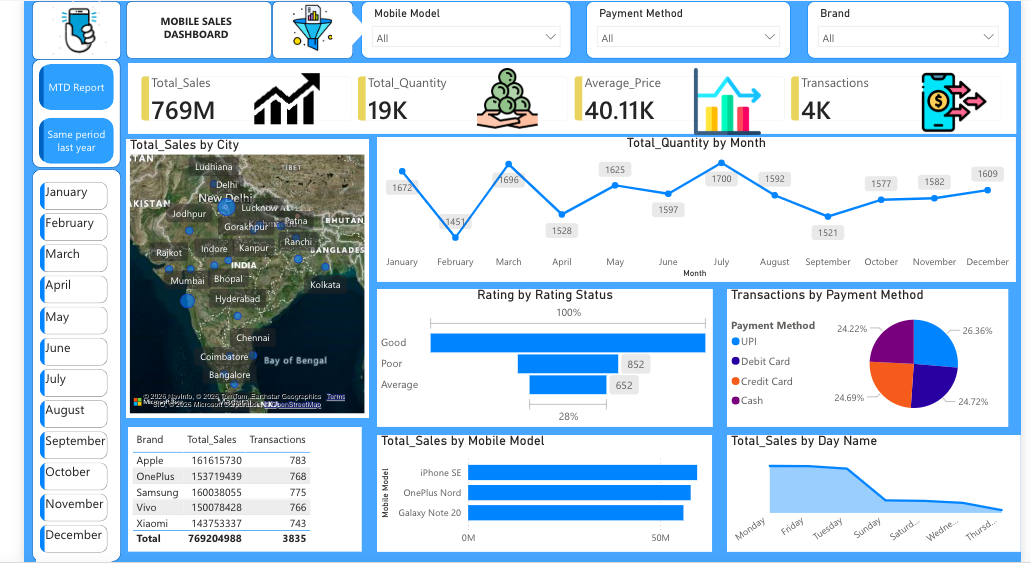

This screenshot's page, from the dashboard's own definition file:
{"tool":"powerbi","page":{"name":"Dashboard","canvas":[1280,720],"ordinal":0},"visuals":[{"type":"shape","box":[10,0,114.3,75.7],"z":0},{"type":"image","box":[10,0,121.4,74.3],"z":1000},{"type":"shape","box":[10.1,74.9,113.8,139.7],"z":2000},{"type":"shape","box":[10,215.7,114.3,504.3],"z":3000},{"type":"advancedSlicerVisual","fields":{"Values":["Custom_Calendar.Date.Variation.Date Hierarchy.Month"]},"box":[15.7,227.1,97.1,492.9],"z":4000},{"type":"cardVisual","fields":{"Data":["Mobile_sales_data.Total_Sales","Mobile_sales_data.Total_Quantity","Mobile_sales_data.Average_Price","Mobile_sales_data.Transactions"]},"box":[132.9,80,1140,91.4],"z":5000},{"type":"slicer","fields":{"Values":["Mobile_sales_data.Mobile Model"]},"box":[432.9,0,270,74.3],"z":6000},{"type":"slicer","fields":{"Values":["Mobile_sales_data.Payment Method"]},"box":[721.4,0,262.9,74.3],"z":7000},{"type":"slicer","fields":{"Values":["Mobile_sales_data.Brand"]},"box":[1004.3,0,260,74.3],"z":8000},{"type":"shape","box":[318.6,0,104.3,74.3],"z":9000},{"type":"image","box":[322.9,2.9,95.7,64.3],"z":10000},{"type":"shape","box":[395.7,11.4,45.7,48.6],"z":11000},{"type":"image","box":[242.9,82.9,190,84.3],"z":12000},{"type":"image","box":[520,82.9,201.4,82.9],"z":13000},{"type":"image","box":[760,85.7,285.7,85.7],"z":14000},{"type":"image","box":[1105.7,88.6,174.3,82.9],"z":15000},{"type":"shape","box":[131.4,0,187.1,74.3],"z":16000},{"type":"textbox","box":[144.3,11.4,154.3,48.6],"z":17000},{"type":"lineChart","fields":{"Category":["Custom_Calendar.Date.Variation.Date Hierarchy.Month"],"Y":["Mobile_sales_data.Total_Quantity"]},"box":[452.9,174.3,820,185.7],"z":18000},{"type":"funnel","title":"Rating by Rating Status","fields":{"Y":["CountNonNull(Mobile_sales_data.Customer Age)"],"Category":["Mobile_sales_data.Rating Status"]},"box":[452.9,370,431.4,177.1],"z":19000},{"type":"pieChart","fields":{"Y":["Mobile_sales_data.Transactions"],"Category":["Mobile_sales_data.Payment Method"]},"box":[902.9,370,361.4,177.1],"z":20000},{"type":"clusteredBarChart","fields":{"Y":["Mobile_sales_data.Total_Sales"],"Category":["Mobile_sales_data.Mobile Model"]},"box":[452.9,557.1,430,150],"z":21000},{"type":"areaChart","fields":{"Y":["Mobile_sales_data.Total_Sales"],"Category":["Custom_Calendar.Day Name"]},"box":[902.9,557.1,377.1,150],"z":22000},{"type":"tableEx","fields":{"Values":["Mobile_sales_data.Brand","Mobile_sales_data.Total_Sales","Mobile_sales_data.Transactions"]},"box":[132.9,547.1,300,160],"z":23000},{"type":"pageNavigator","box":[18.7,80.6,96.5,128.2],"z":24000},{"type":"map","fields":{"Category":["Mobile_sales_data.City"],"Size":["Mobile_sales_data.Total_Sales"]},"box":[131,177.1,311,357.1],"z":25000}]}

Visuals, with their boxes on the page's 1280x720 design canvas (x1, y1, x2, y2). These are canvas units, not pixel positions in the 1031x563 screenshot, which may show the page scaled, cropped or inside an application window:
shape: box(10, 0, 124, 76)
image: box(10, 0, 131, 74)
shape: box(10, 75, 124, 215)
shape: box(10, 216, 124, 720)
advancedSlicerVisual - Custom_Calendar.Date.Variation.Date Hierarchy.Month: box(16, 227, 113, 720)
cardVisual - Mobile_sales_data.Total_Sales x Mobile_sales_data.Total_Quantity: box(133, 80, 1273, 171)
slicer - Mobile_sales_data.Mobile Model: box(433, 0, 703, 74)
slicer - Mobile_sales_data.Payment Method: box(721, 0, 984, 74)
slicer - Mobile_sales_data.Brand: box(1004, 0, 1264, 74)
shape: box(319, 0, 423, 74)
image: box(323, 3, 419, 67)
shape: box(396, 11, 441, 60)
image: box(243, 83, 433, 167)
image: box(520, 83, 721, 166)
image: box(760, 86, 1046, 171)
image: box(1106, 89, 1280, 172)
shape: box(131, 0, 318, 74)
textbox: box(144, 11, 299, 60)
lineChart - Custom_Calendar.Date.Variation.Date Hierarchy.Month x Mobile_sales_data.Total_Quantity: box(453, 174, 1273, 360)
"Rating by Rating Status" funnel: box(453, 370, 884, 547)
pieChart - Mobile_sales_data.Transactions x Mobile_sales_data.Payment Method: box(903, 370, 1264, 547)
clusteredBarChart - Mobile_sales_data.Total_Sales x Mobile_sales_data.Mobile Model: box(453, 557, 883, 707)
areaChart - Mobile_sales_data.Total_Sales x Custom_Calendar.Day Name: box(903, 557, 1280, 707)
tableEx - Mobile_sales_data.Brand x Mobile_sales_data.Total_Sales: box(133, 547, 433, 707)
pageNavigator: box(19, 81, 115, 209)
map - Mobile_sales_data.City x Mobile_sales_data.Total_Sales: box(131, 177, 442, 534)
